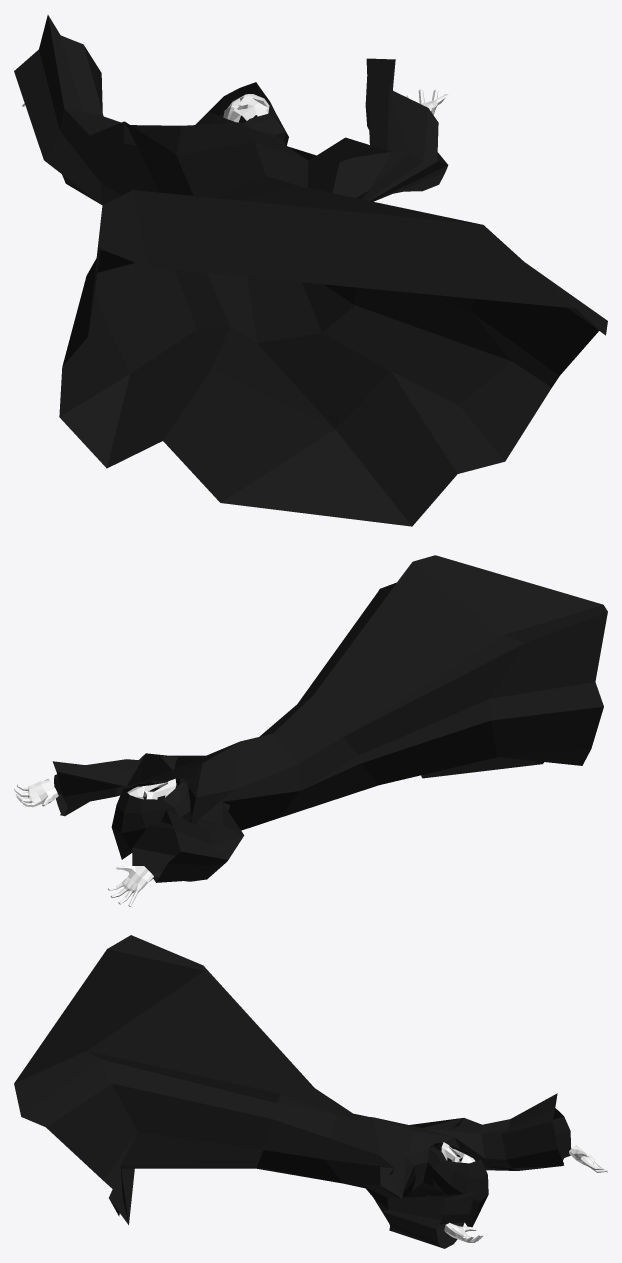
The model's file is ReaperDead(98).obj.
The picture shows the model from 3 angles, top to bottom: view 1: azimuth 30°, elevation 25°; view 2: azimuth 150°, elevation 25°; view 3: azimuth 270°, elevation 25°; orthographic projection. The views are drawn at different scales.
Parts seen in each view (by area): view 1: Plane003; view 2: Plane003; view 3: Plane003.
Boxes of the visible parts, x1,y1,x2,y2 form: Plane003: (14,15,607,526); Plane003: (14,555,607,906); Plane003: (14,935,607,1248).
Size of the model in its own units: 213 by 107 by 293.
